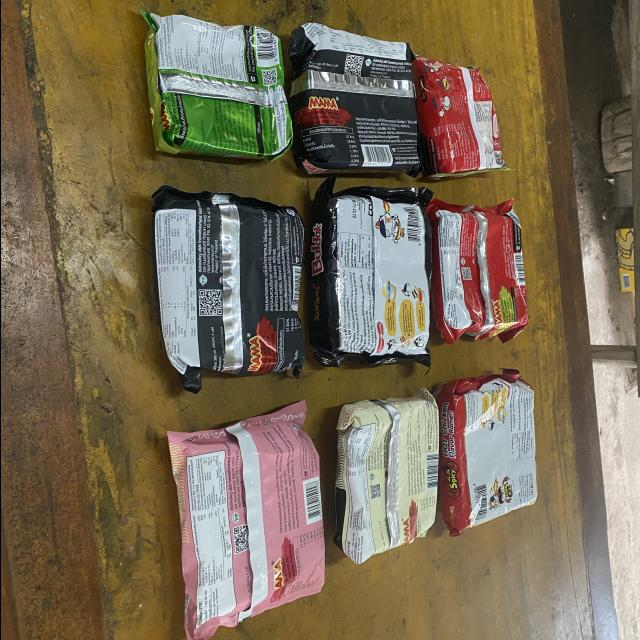plastik: (166, 401, 324, 640), (151, 186, 303, 392), (304, 178, 432, 367), (142, 12, 292, 160), (288, 22, 422, 177), (335, 390, 437, 563), (435, 369, 537, 537), (426, 199, 526, 343), (413, 56, 507, 178)
